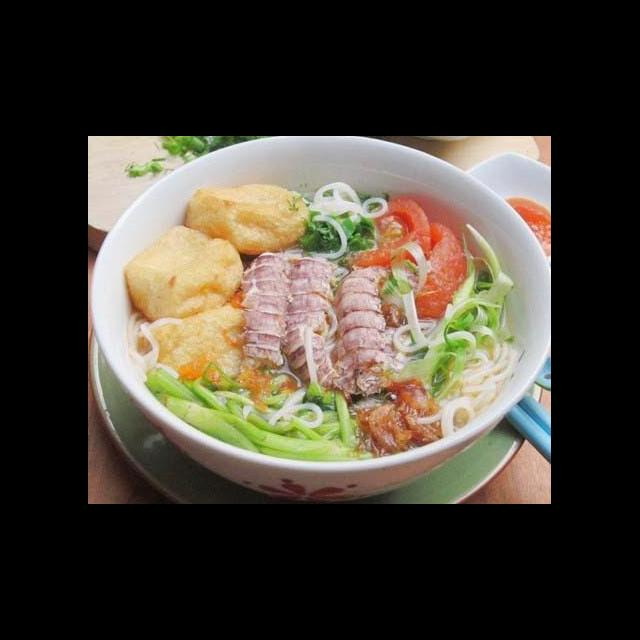bun: (412, 326, 522, 441), (304, 176, 392, 263), (120, 303, 188, 384), (235, 381, 326, 432)
dau hu: (122, 220, 248, 327), (136, 298, 268, 394), (180, 180, 312, 258)
tom tit: (278, 253, 356, 400), (330, 260, 410, 399), (236, 247, 308, 374)
